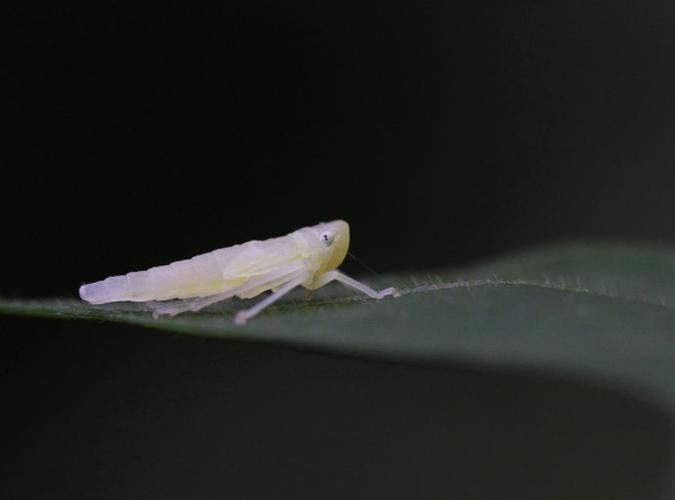Cicadellidae: (78, 216, 355, 324)
